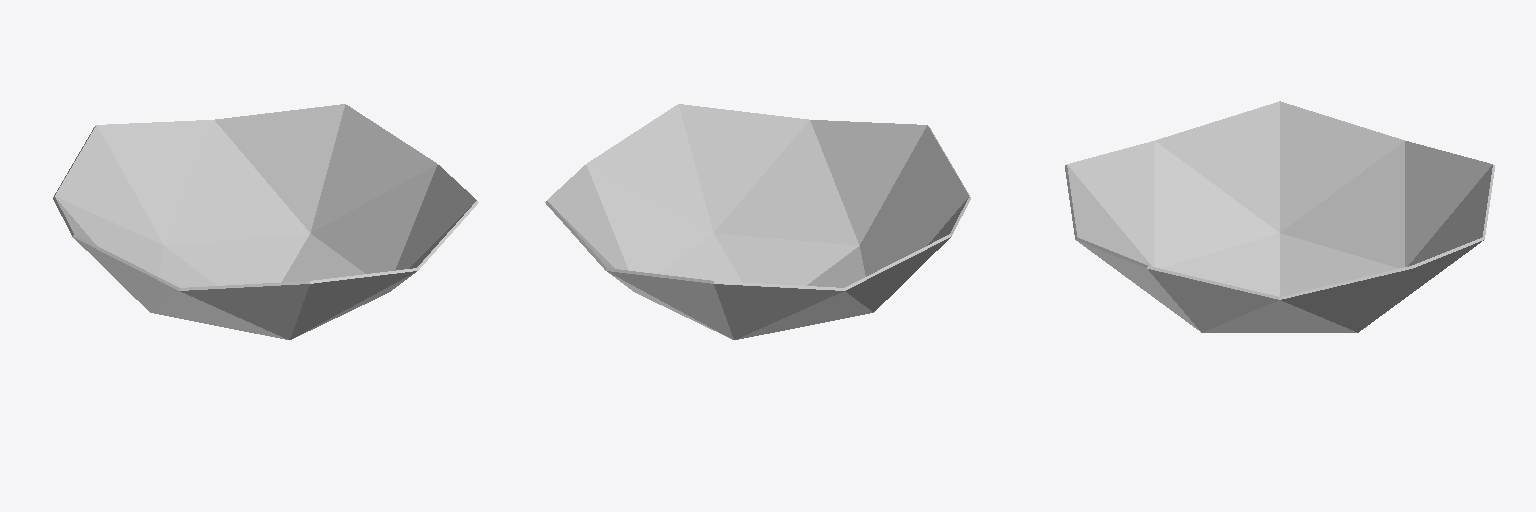
File: VeruSimpleNest.obj
3 views of the same model, side by side, from view 1: azimuth 30°, elevation 25°; view 2: azimuth 150°, elevation 25°; view 3: azimuth 270°, elevation 25° (orthographic).
Parts seen in each view (by area): view 1: Icosphere; view 2: Icosphere; view 3: Icosphere.
Boxes of the visible parts, box(x1,y1,x2,y2) form: Icosphere: box(53, 104, 478, 339); Icosphere: box(545, 104, 970, 339); Icosphere: box(1065, 101, 1494, 332).
Bounding box in the file's own units: 0.5269 × 0.1813 × 0.5357.